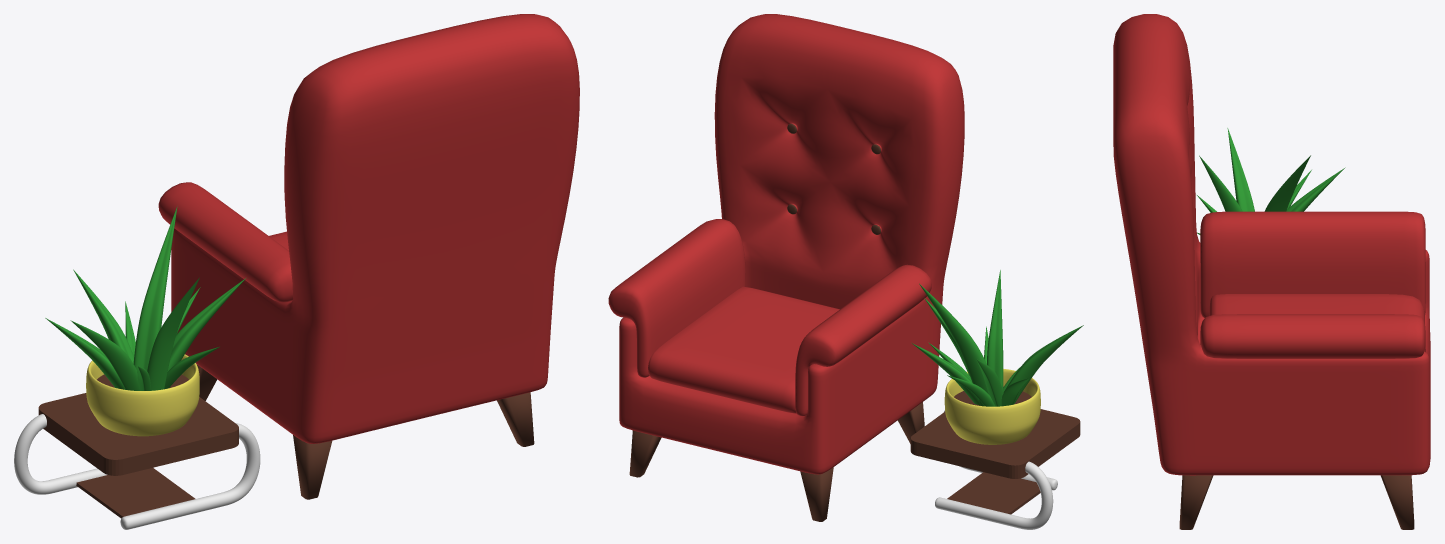
File: ScenaCameretta.fbx
3 renders of one model, left to right at view 1: azimuth 30°, elevation 25°; view 2: azimuth 150°, elevation 25°; view 3: azimuth 270°, elevation 25°, orthographic. The views are drawn at different scales.
Visible parts, largest first — view 1: Plane.003, Cube, Circle; view 2: Plane.003, Cube, Circle; view 3: Plane.003, Circle.
Part boxes in pixels (bbox=[...]): Plane.003: bbox=[158, 14, 579, 499]; Cube: bbox=[14, 393, 260, 529]; Circle: bbox=[45, 207, 245, 436]; Plane.003: bbox=[608, 14, 964, 521]; Cube: bbox=[910, 409, 1080, 529]; Circle: bbox=[912, 270, 1083, 444]; Plane.003: bbox=[1113, 14, 1430, 529]; Circle: bbox=[1197, 128, 1345, 234].
Size of the model in its own units: 132 by 119 by 81.31.
